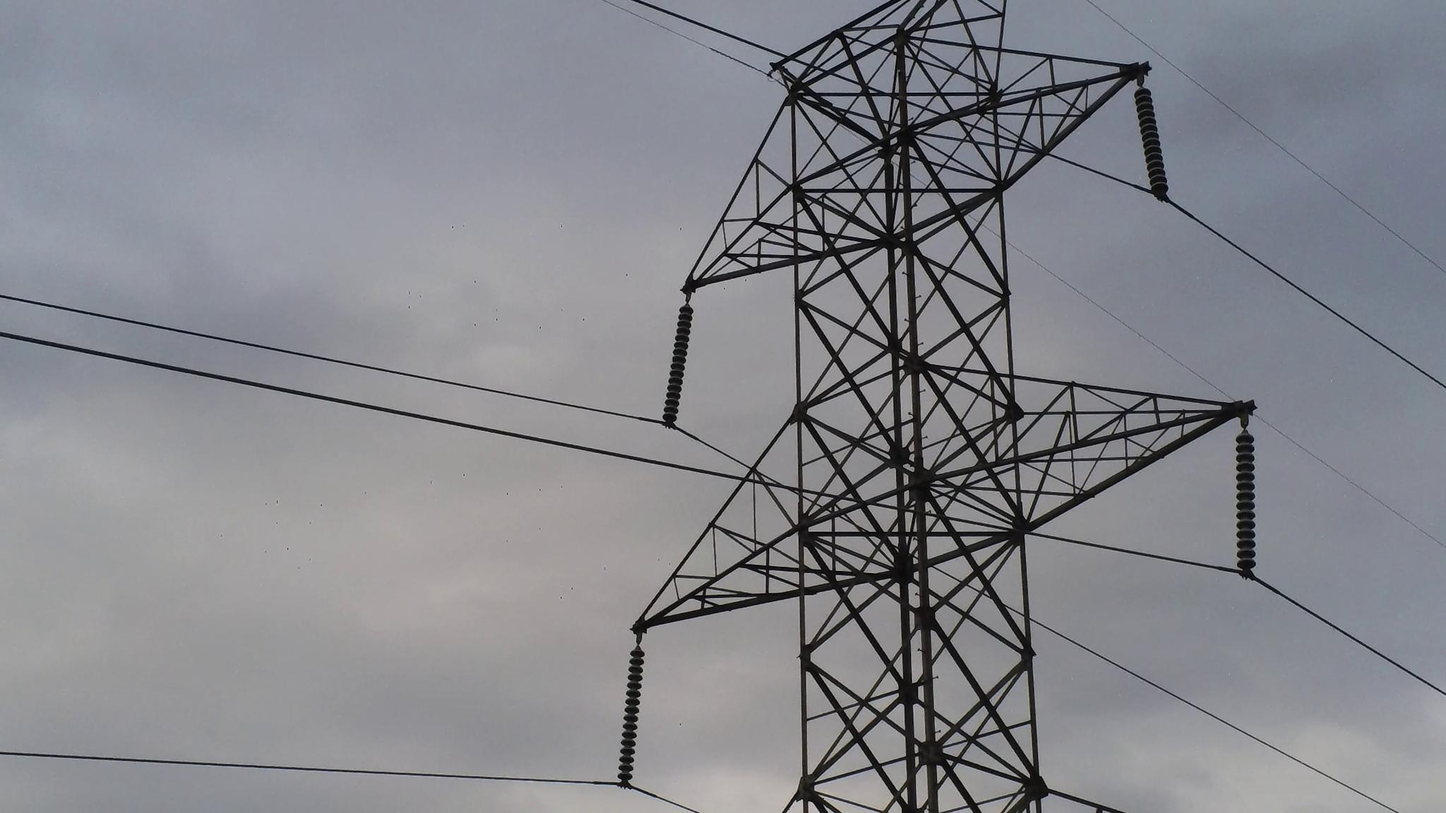tower: (618, 0, 1268, 813)
